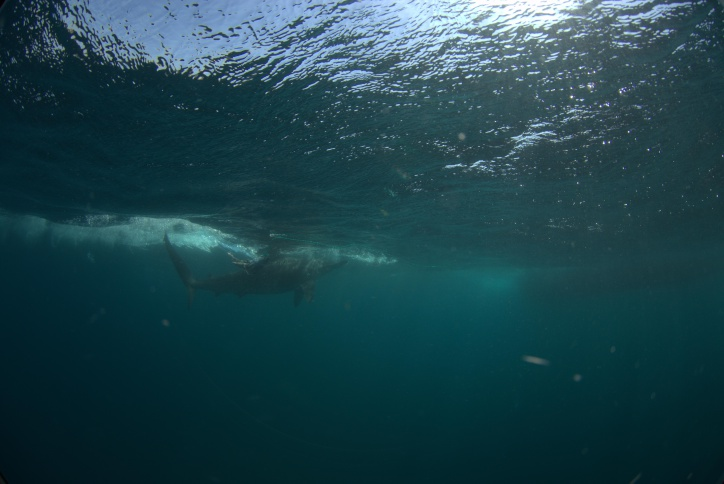Hammer: (146, 203, 359, 335)
